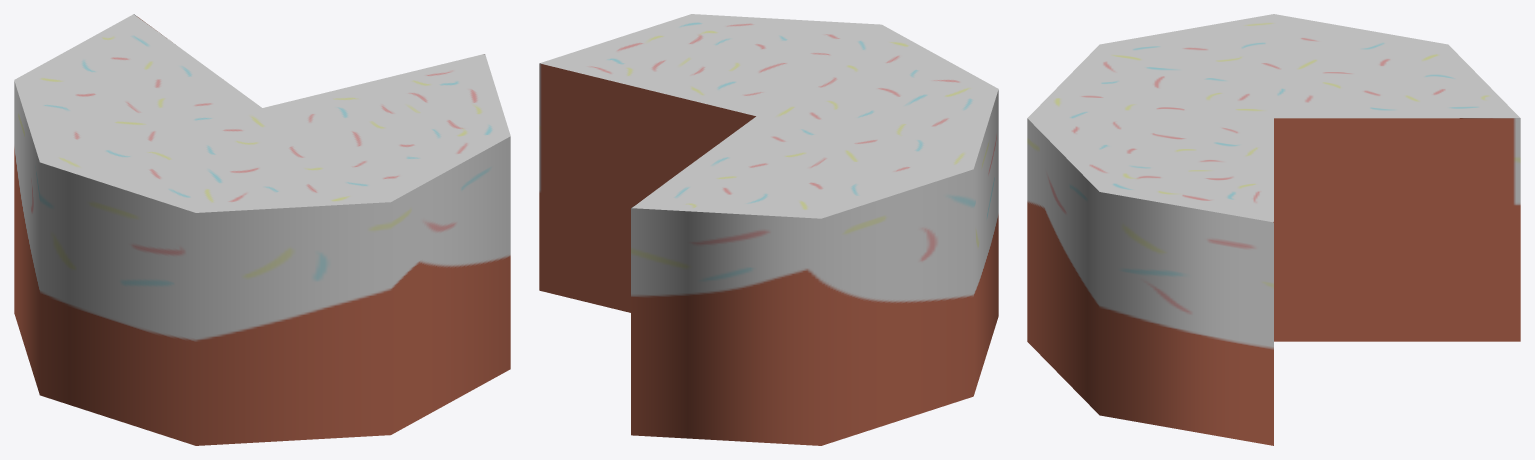
The model's file is Cake_Kitchen_01.fbx.
The picture shows the model from 3 angles, left to right: view 1: azimuth 30°, elevation 25°; view 2: azimuth 150°, elevation 25°; view 3: azimuth 270°, elevation 25°; orthographic projection. The views are drawn at different scales.
Parts seen in each view (by area): view 1: Cake_Main_01; view 2: Cake_Main_01; view 3: Cake_Main_01.
Part boxes in pixels (x1,y1,x2,y2): Cake_Main_01: [14, 14, 510, 445]; Cake_Main_01: [539, 14, 998, 445]; Cake_Main_01: [1027, 14, 1520, 445].
Size of the model in its own units: 1.51 by 0.7546 by 1.51.
